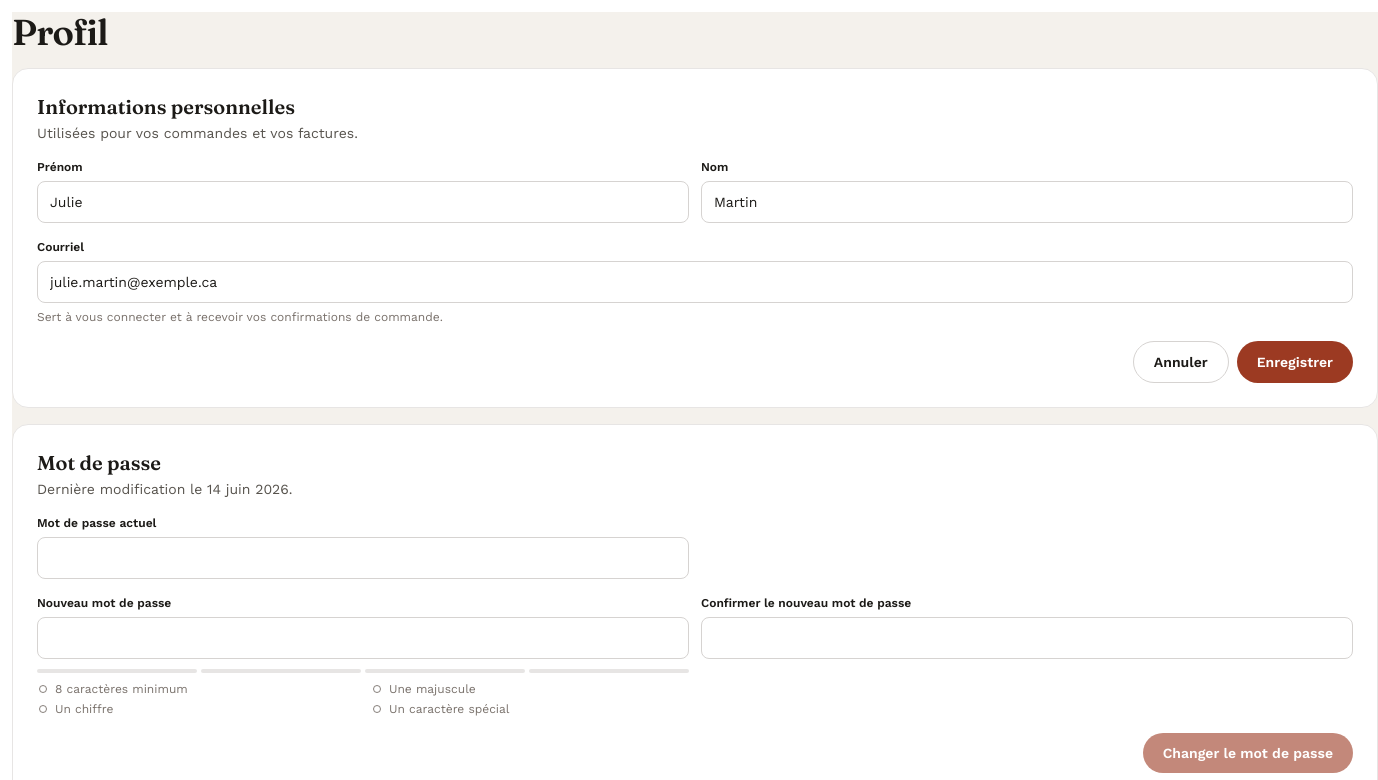
Test case: ProfilPage › restores the saved values on Annuler
This screenshot has width=1378, height=780.
Replace the text in the field labelled "Prénom" with "Juliette" at [363, 202], box [37, 181, 689, 223]
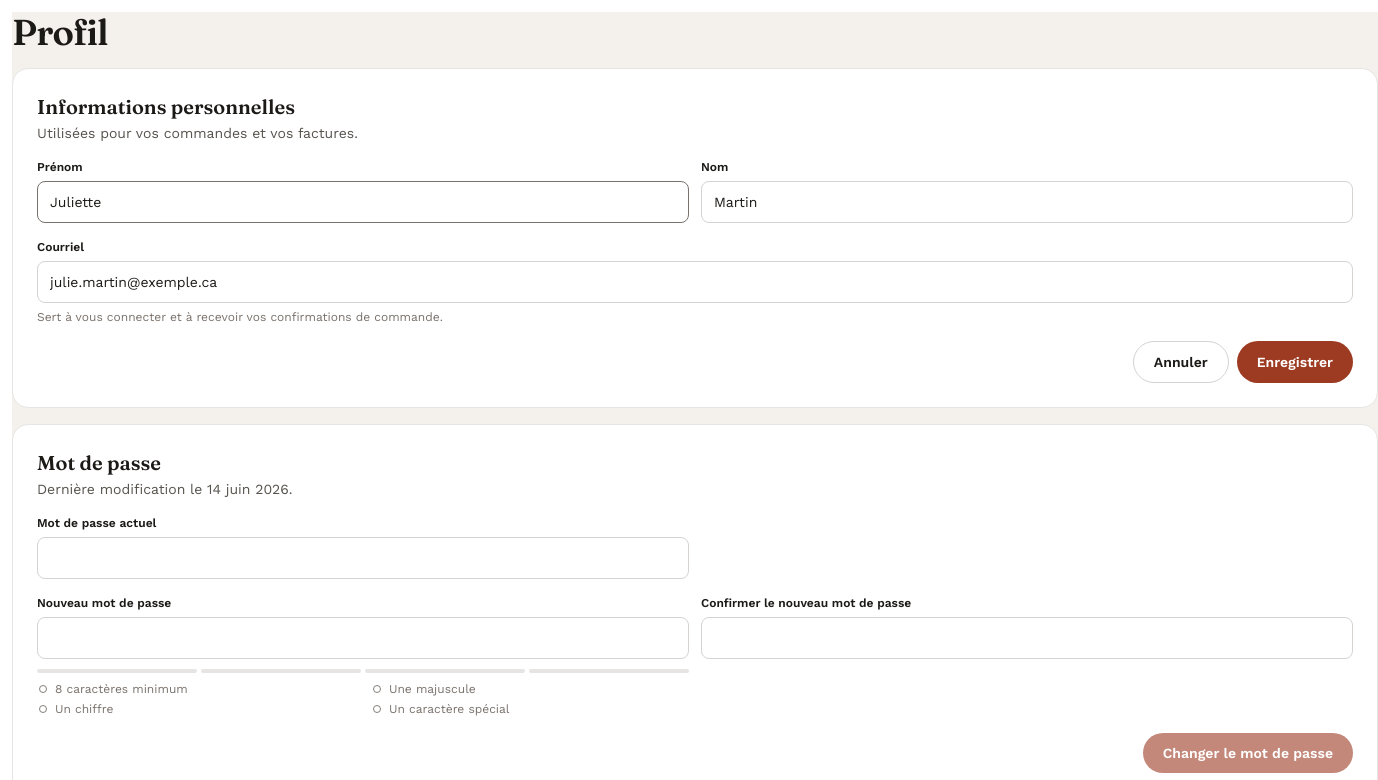
Click the button "Annuler" at [1181, 362], box [1133, 341, 1229, 383]
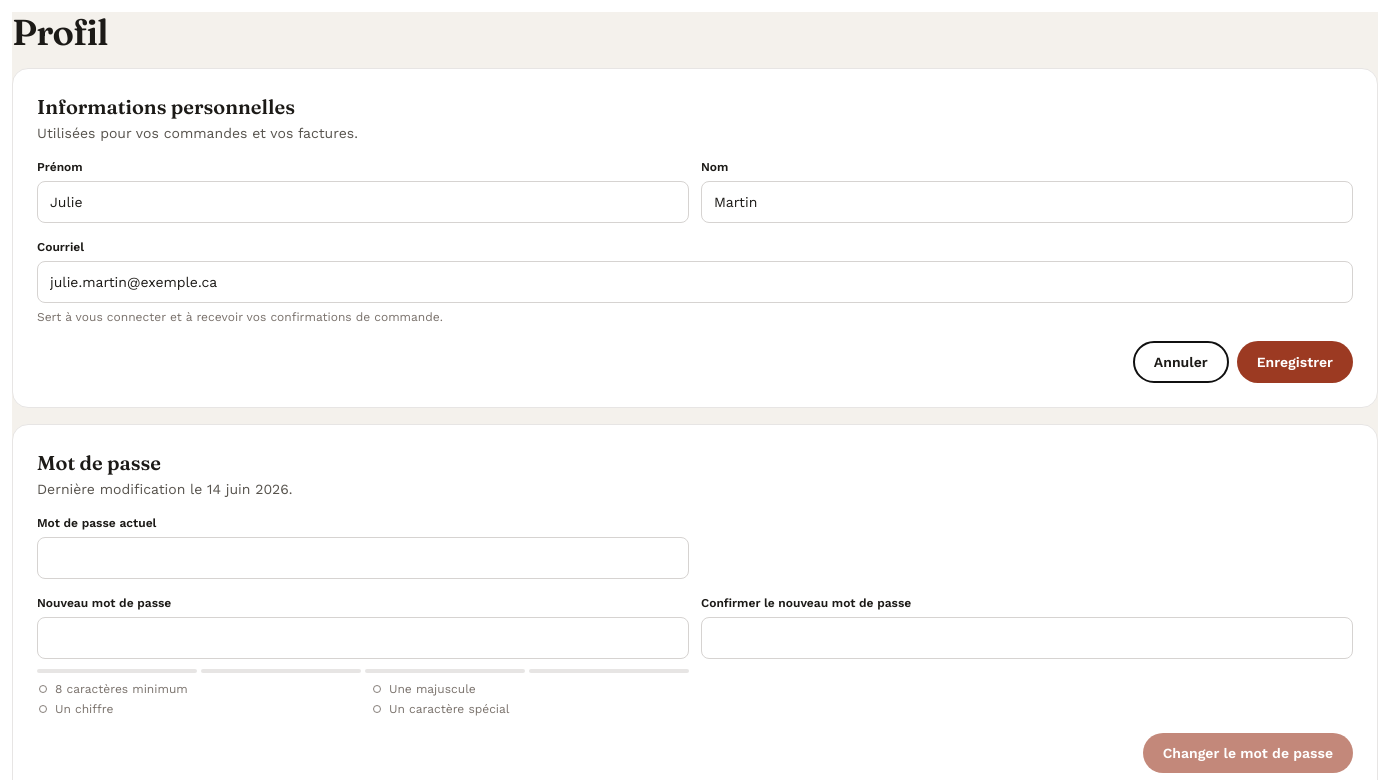
Check: the field labelled "Prénom" holds "Julie", box [37, 181, 689, 223]
